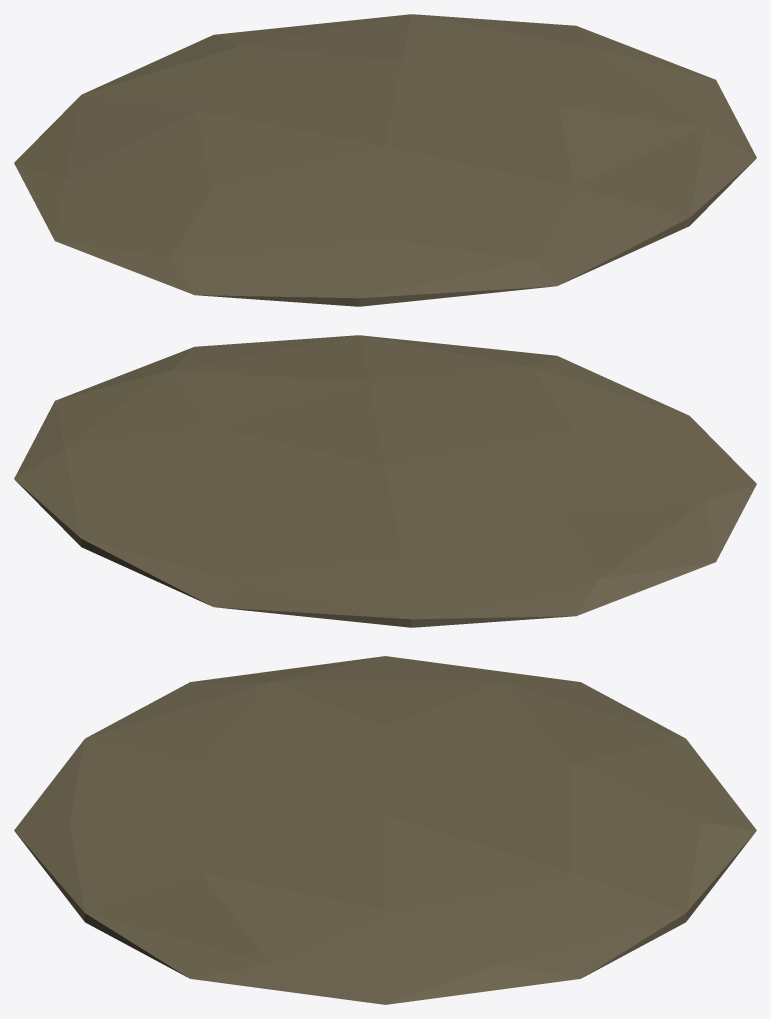
File: dry_soil.glb
3 renders of one model, top to bottom at view 1: azimuth 30°, elevation 25°; view 2: azimuth 150°, elevation 25°; view 3: azimuth 270°, elevation 25°, orthographic. The views are drawn at different scales.
Visible parts, largest first — view 1: world-scenery/dry_soil; view 2: world-scenery/dry_soil; view 3: world-scenery/dry_soil.
Boxes of the visible parts, x1,y1,x2,y2 form: world-scenery/dry_soil: [14, 14, 756, 306]; world-scenery/dry_soil: [14, 335, 756, 627]; world-scenery/dry_soil: [14, 656, 756, 1004].
Size of the model in its own units: 6 by 0.24 by 5.4.
